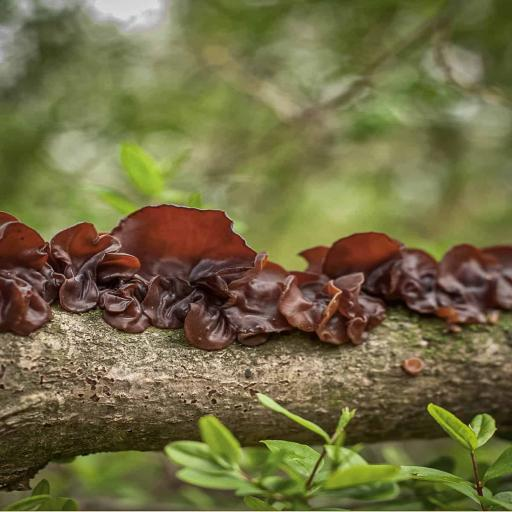Wood Ear Mushroom: (0, 211, 187, 345), (312, 225, 512, 314), (192, 254, 365, 351), (121, 199, 267, 281)
